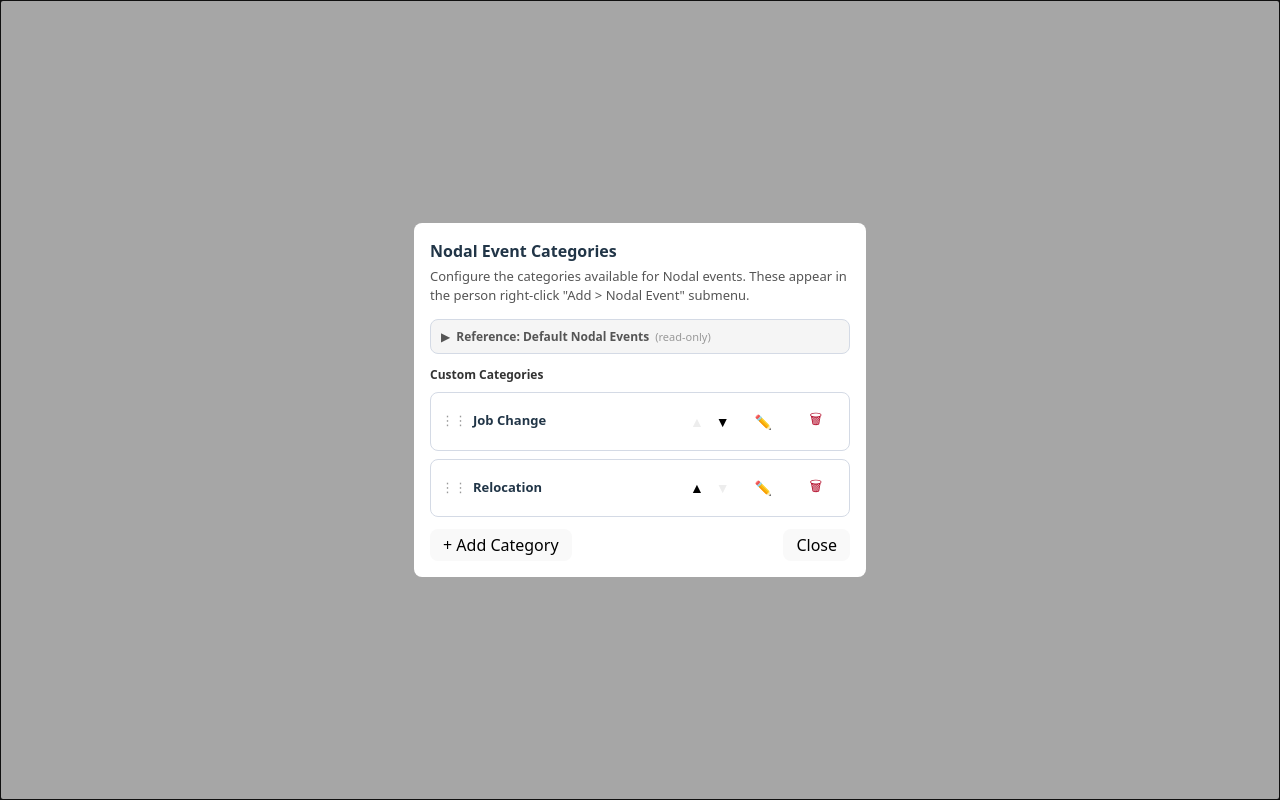
Test case: NodalCategorySettingsModal — names (settings-07, settings-08) › refuses an empty name entered with Enter
Click the button "+ Add Category" at point(501, 545), box x1=430 y1=529 x2=572 y2=561
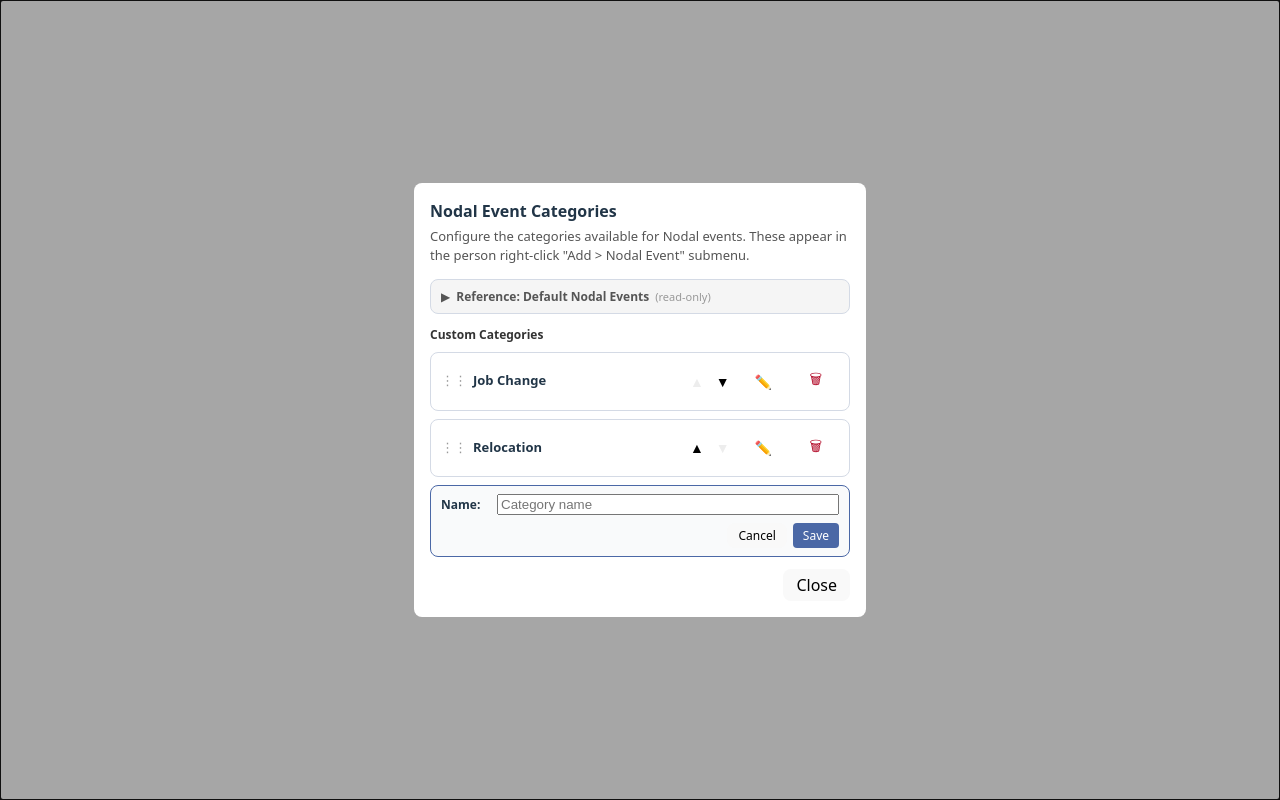
Press Enter in the field labelled "Category name", box x1=497 y1=494 x2=839 y2=515
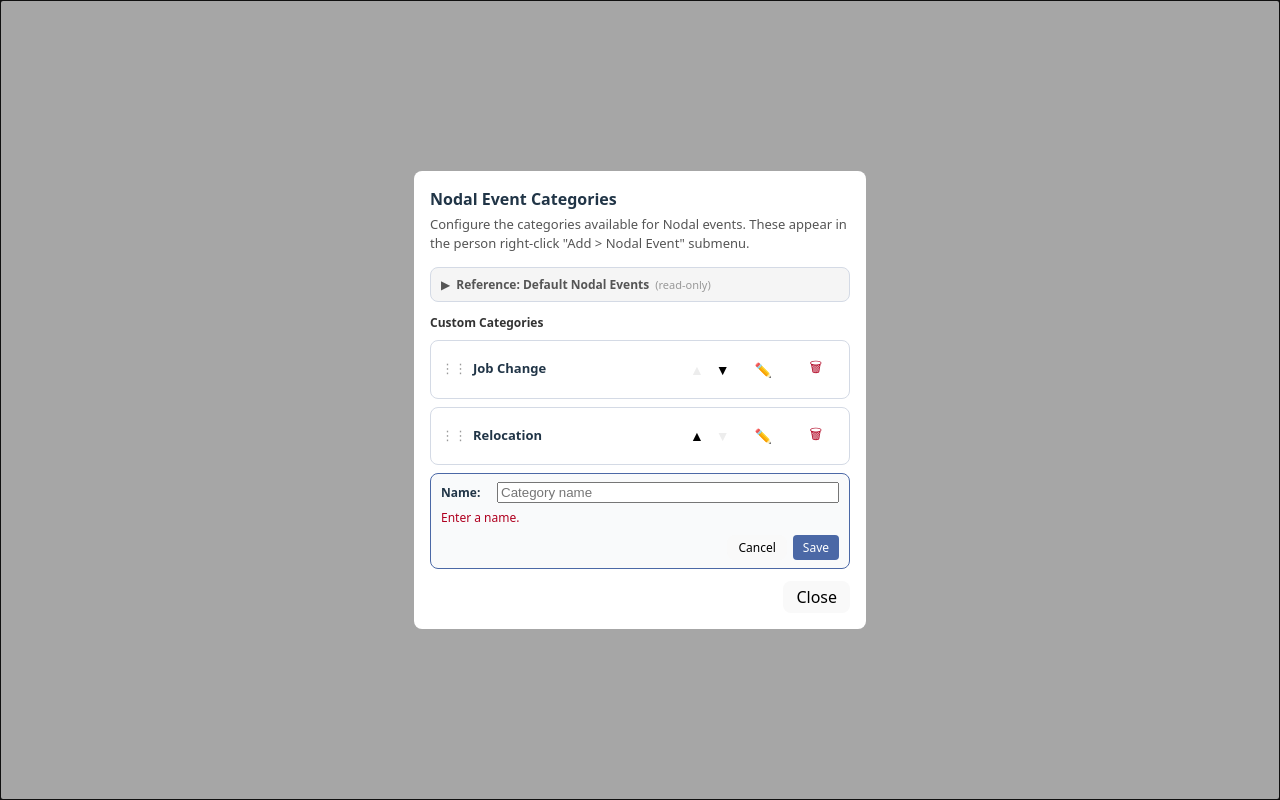
expect the message reads "Enter a name.": met, box x1=441 y1=509 x2=520 y2=526
